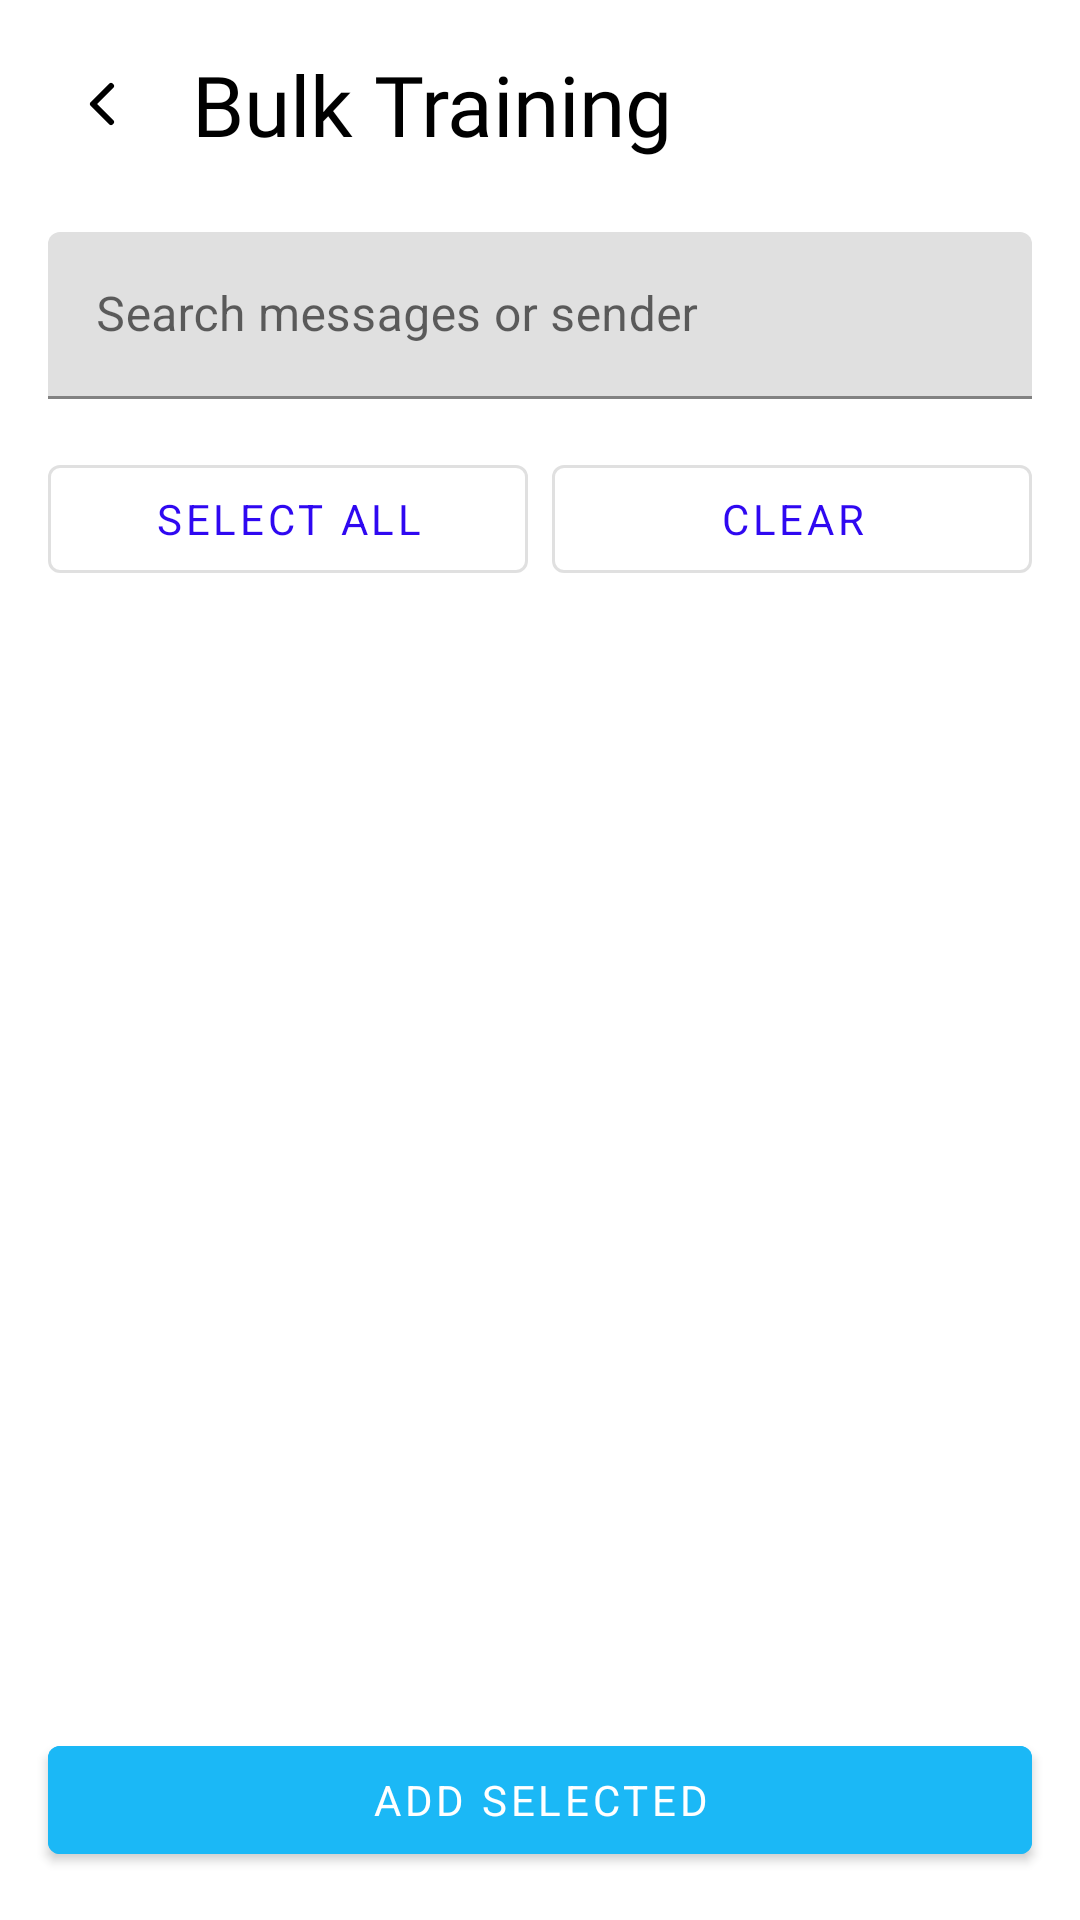

Screen size 1080 x 1920. Icon name, then its box in pixels as (x1=x1, y1=y1, x2=x2, y2=y2):
Back: (x1=90, y1=83, x2=114, y2=125)
